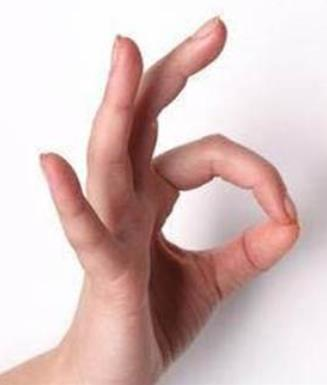left: (33, 12, 312, 345)
